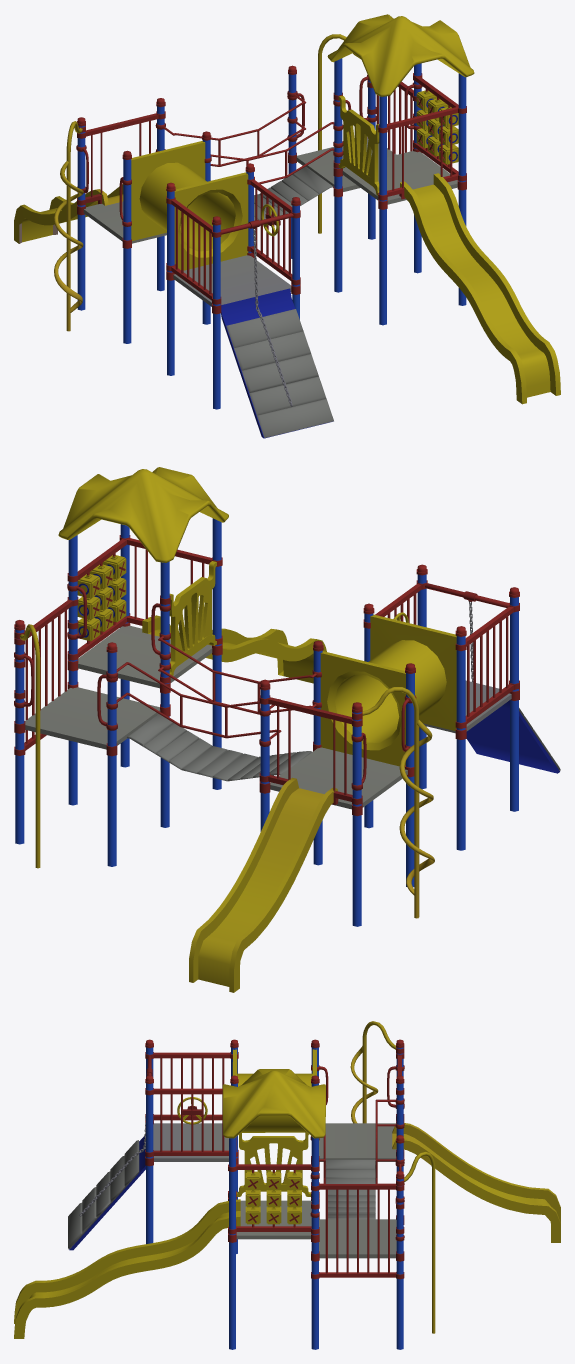
Rendered from Juegos.fbx.
3 views of the same model, one above another, from view 1: azimuth 30°, elevation 25°; view 2: azimuth 150°, elevation 25°; view 3: azimuth 270°, elevation 25° (orthographic). The views are drawn at different scales.
Parts seen in each view (by area): view 1: Long slide.001, climbing wall, Crawl Tube.001, Roof, Platforms.003, Decorative side panel, Platforms.002, short slide.001, Twirl pole.001, Cylinder.352Blue poles, Rail guard, Cylinder.356Blue poles (+23 smaller); view 2: Crawl Tube.001, short slide.001, Roof, Bridge, Platforms.001, Platforms, Platforms.002, Long slide.001, Decorative side panel, climbing wall, Twirl pole.001, Rail guard (+23 smaller); view 3: Long slide.001, Roof, short slide.001, climbing wall, Platforms.001, Platforms, Bridge, Big Rail Guard, Platforms.003, Decorative side panel, Rail guard.001, Cylinder.319Blue poles (+12 smaller).
Part boxes in pixels (box(x1,y1,x2,y2)): Long slide.001: box(400, 173, 560, 404); climbing wall: box(221, 288, 333, 438); Crawl Tube.001: box(131, 141, 248, 270); Roof: box(327, 14, 474, 96); Platforms.003: box(173, 255, 291, 306); Decorative side panel: box(338, 95, 379, 195); Platforms.002: box(342, 151, 457, 204); short slide.001: box(14, 184, 123, 243); Twirl pole.001: box(54, 121, 83, 331); Cylinder.352Blue poles: box(333, 58, 342, 292); Rail guard: box(171, 199, 212, 300); Cylinder.356Blue poles: box(378, 96, 387, 325); Crawl Tube.001: box(320, 614, 456, 767); short slide.001: box(189, 777, 337, 992); Roof: box(58, 467, 228, 562); Bridge: box(127, 714, 311, 781); Platforms.001: box(25, 687, 160, 749); Platforms: box(270, 747, 407, 809); Platforms.002: box(78, 625, 212, 688); Long slide.001: box(142, 615, 326, 683); Decorative side panel: box(169, 561, 216, 675); climbing wall: box(466, 700, 560, 773); Twirl pole.001: box(362, 687, 434, 918); Rail guard: box(465, 606, 513, 723); Long slide.001: box(14, 1199, 240, 1338); Roof: box(222, 1069, 325, 1138); short slide.001: box(392, 1123, 560, 1242); climbing wall: box(68, 1135, 145, 1250); Platforms.001: box(319, 1219, 396, 1258); Platforms: box(319, 1123, 396, 1161); Bridge: box(325, 1159, 375, 1219); Big Rail Guard: box(319, 1184, 395, 1277); Platforms.003: box(153, 1123, 228, 1161); Decorative side panel: box(236, 1131, 310, 1196); Rail guard.001: box(154, 1088, 228, 1155); Cylinder.319Blue poles: box(311, 1136, 319, 1349).
Size of the model in its own units: 89.13 by 69.25 by 132.
1 material, 1 textured.
